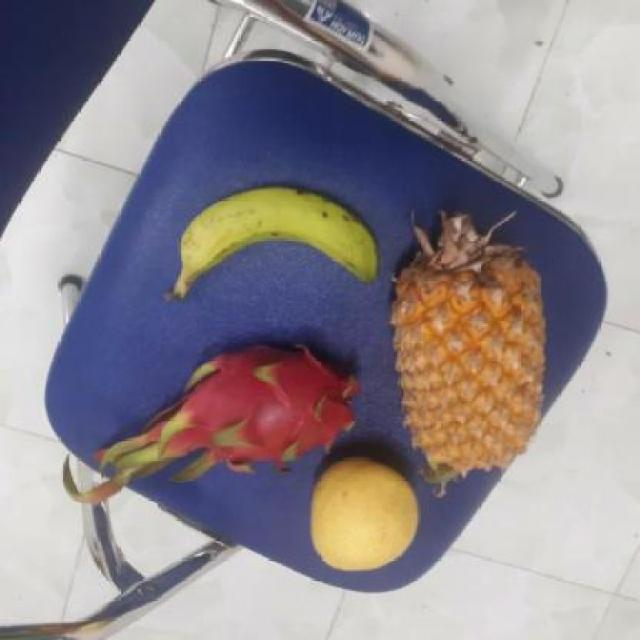banana: (167, 186, 373, 299)
dragon fruit: (146, 338, 360, 473)
pear: (304, 457, 424, 571)
pineapple: (380, 245, 543, 473)
